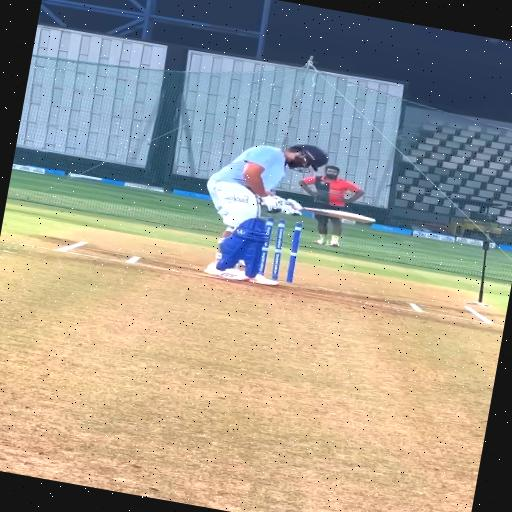Cricket bat: (302, 207, 374, 223)
